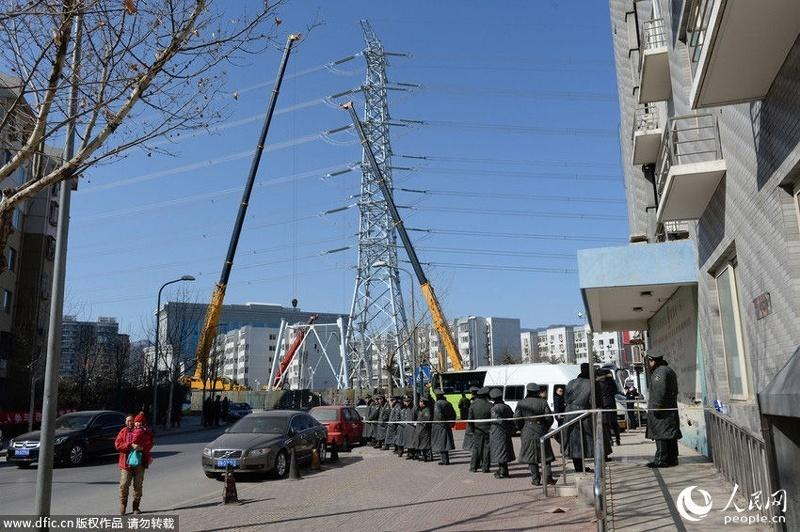power_tower: (313, 27, 443, 390)
